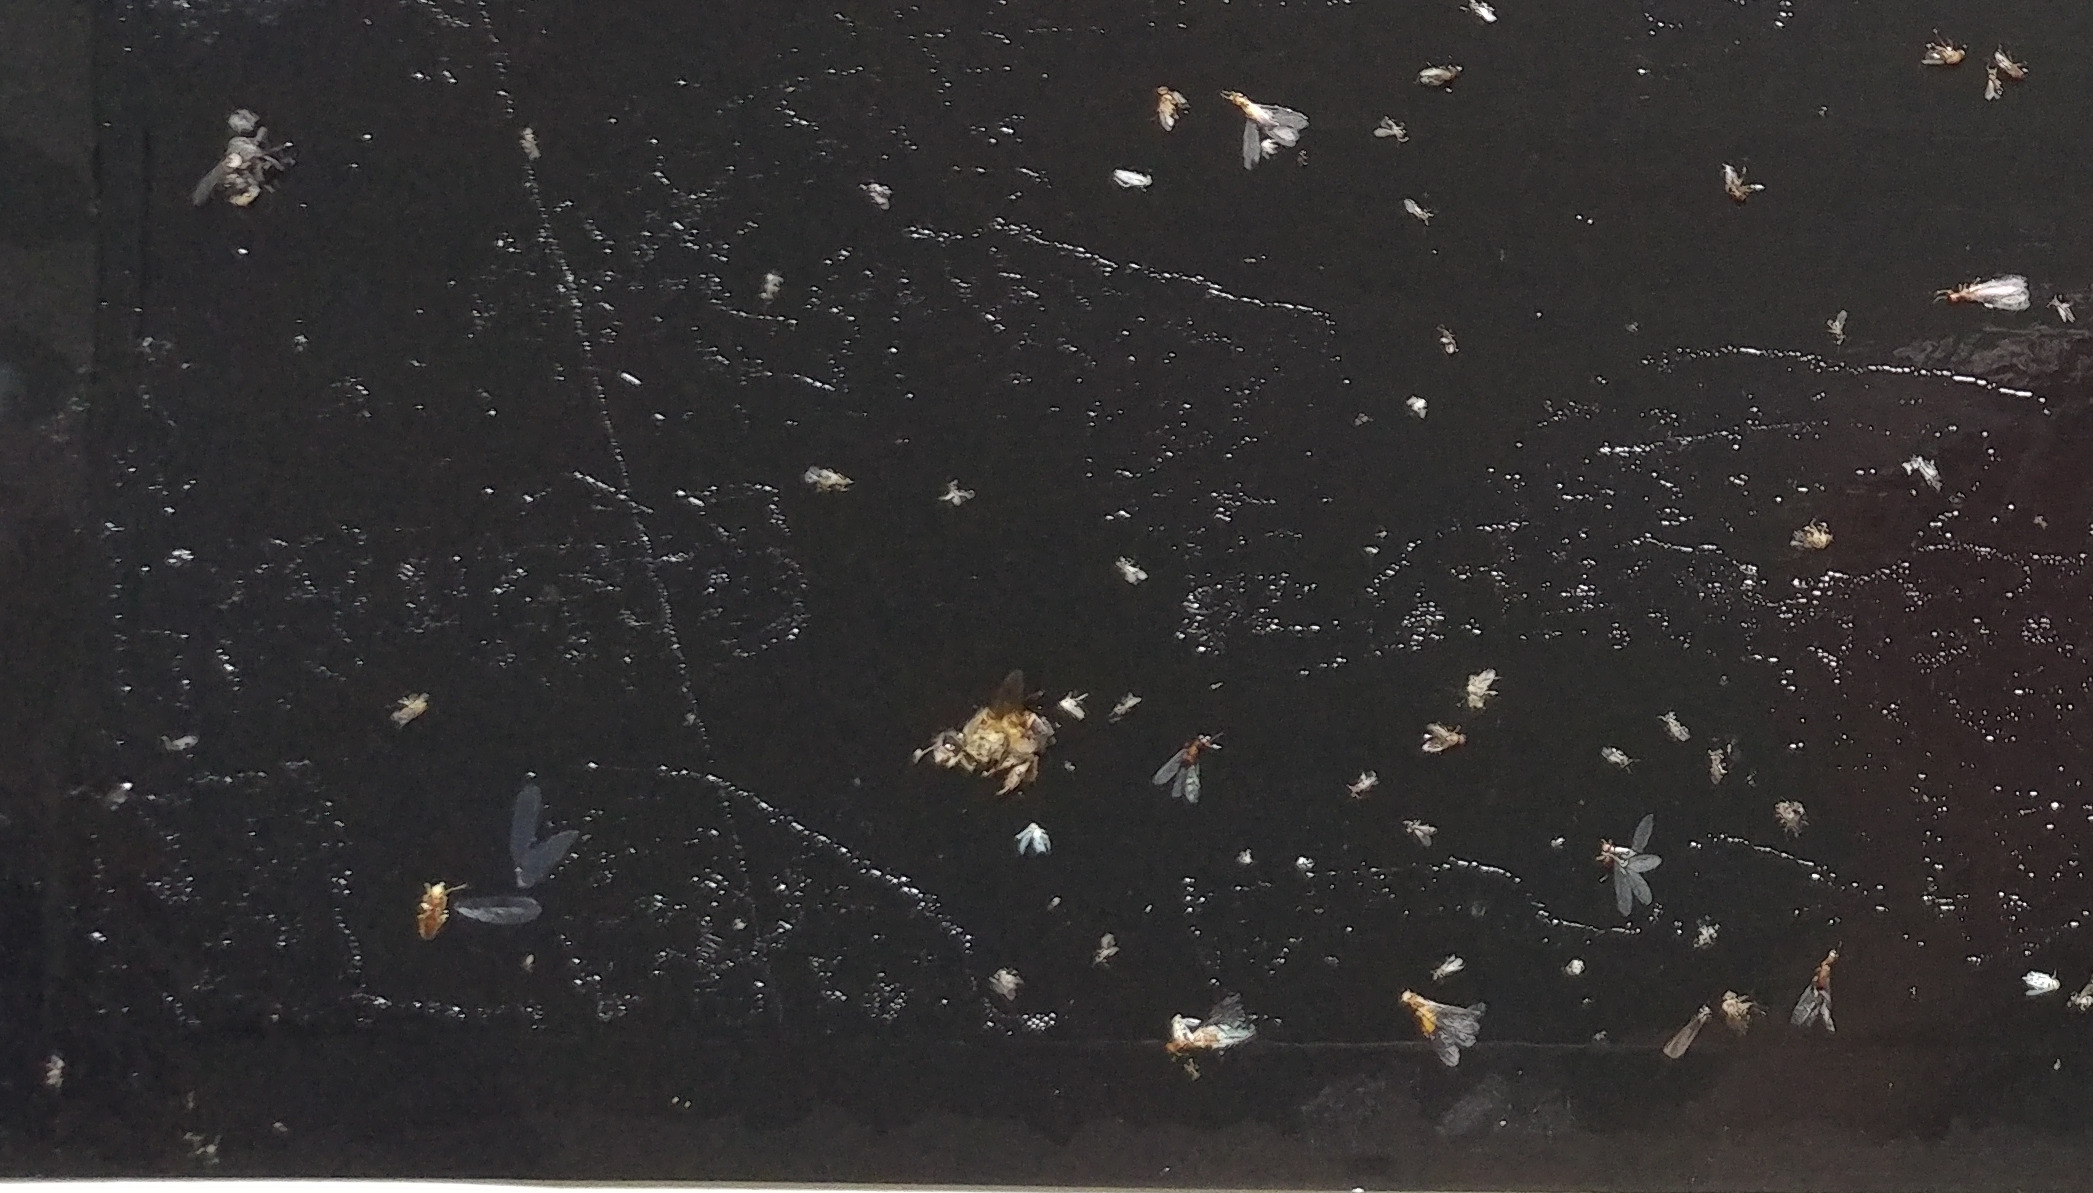house fly: (168, 92, 325, 203)
